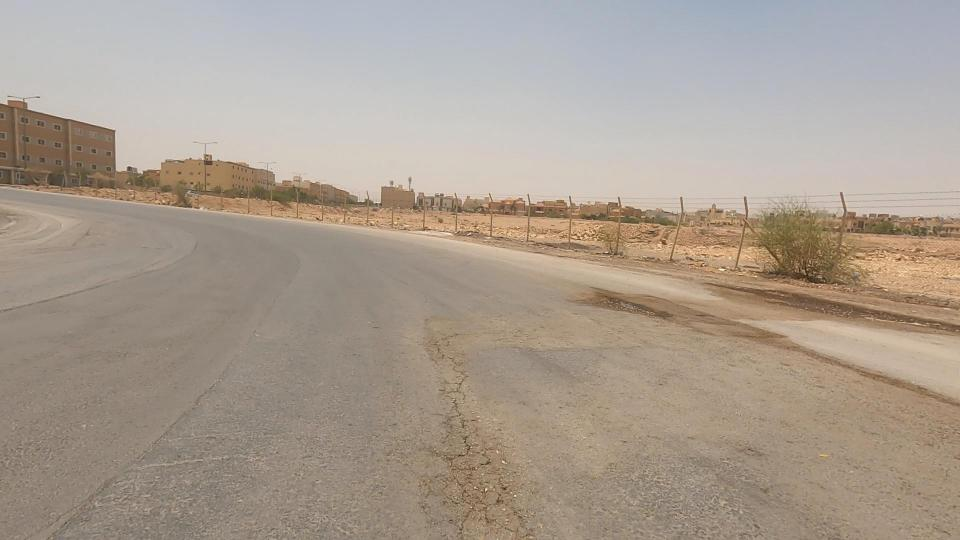POTHOLES: (324, 328, 638, 540), (529, 234, 720, 364)
